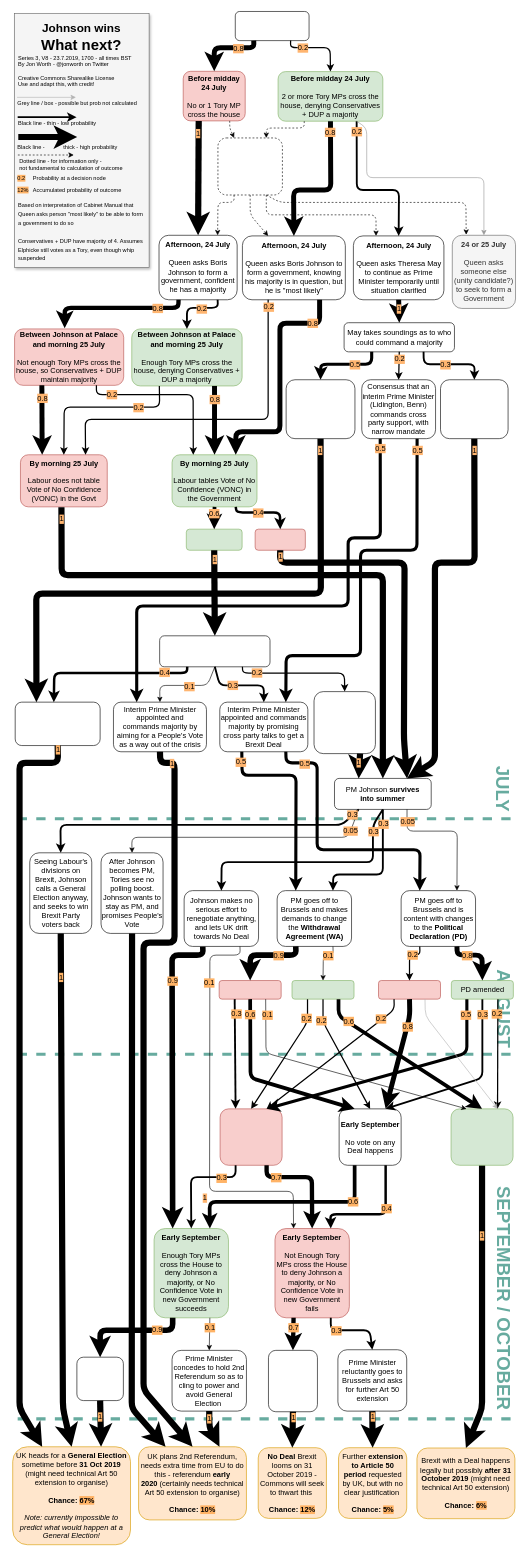
Some shapes in this 531 by 1556 pixel diagram are drawn without their labels. Each missing label, with the centre of its shape:
14 days scramble for a solution, Commons recess postponed: point 214,651
Boris Johnson wins: point 272,26
Consensus that Johnson can command a majority if Brexit position softens: point 474,409
Early September Commons votes again on Deal and it is approved: point 481,1136
Early September Commons votes again on Deal and it is rejected again: point 250,1136
Johnson softens Brexit position, shows he can command confidence of House: point 344,722
Midday, 24 July May goes to Buckingham Palace and to tender resignation: point 249,166
No consensus possible as Labour unwilling to back any compromise candidate: point 320,409
No majority for Prime Minister in Commons: point 99,1379
No solution found, so election to take place (Fixed Term Parliaments Act): point 57,724
PD not amended: point 409,989
Prime Minister sees no route other than No Deal Brexit: point 292,1381
VONC fails: point 280,539
VONC passes: point 214,539
WA amended: point 322,989
WA not amended: point 250,989
